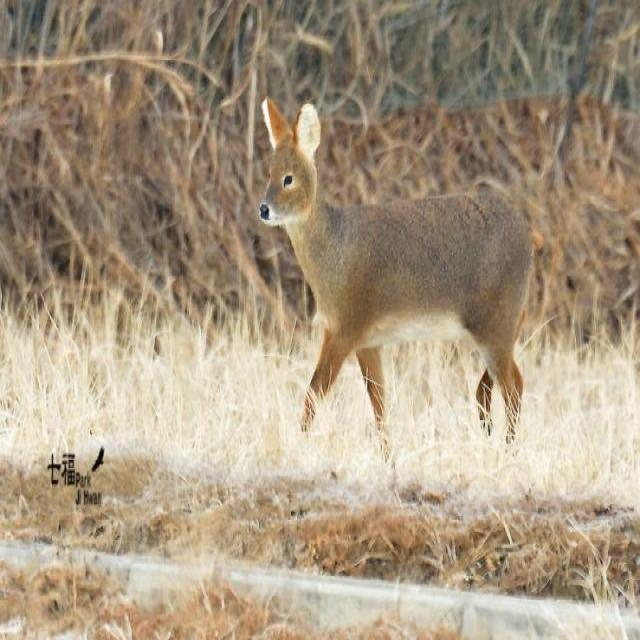deer: (230, 91, 563, 514)
